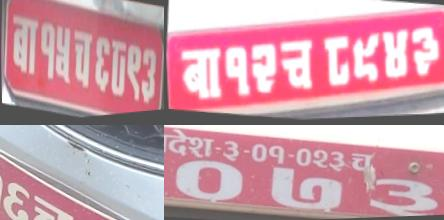0: (169, 155, 246, 207), (292, 147, 312, 172), (248, 142, 268, 166)
1: (219, 43, 255, 98), (38, 17, 57, 84), (264, 143, 288, 168)
2: (246, 39, 280, 94), (310, 148, 329, 173)
3: (361, 174, 442, 220), (406, 26, 444, 78), (140, 46, 156, 110), (218, 140, 243, 165), (326, 150, 347, 176)
4: (378, 30, 412, 81)
5: (53, 22, 73, 84)
6: (0, 180, 33, 220), (93, 33, 111, 97)
7: (264, 163, 347, 218)
8: (317, 33, 356, 88), (108, 37, 128, 100)
9: (349, 32, 382, 85), (124, 44, 142, 104)
ba: (176, 44, 225, 103), (11, 12, 37, 78)
cha: (274, 36, 318, 96), (70, 26, 92, 94), (24, 191, 74, 220), (347, 150, 375, 178)
